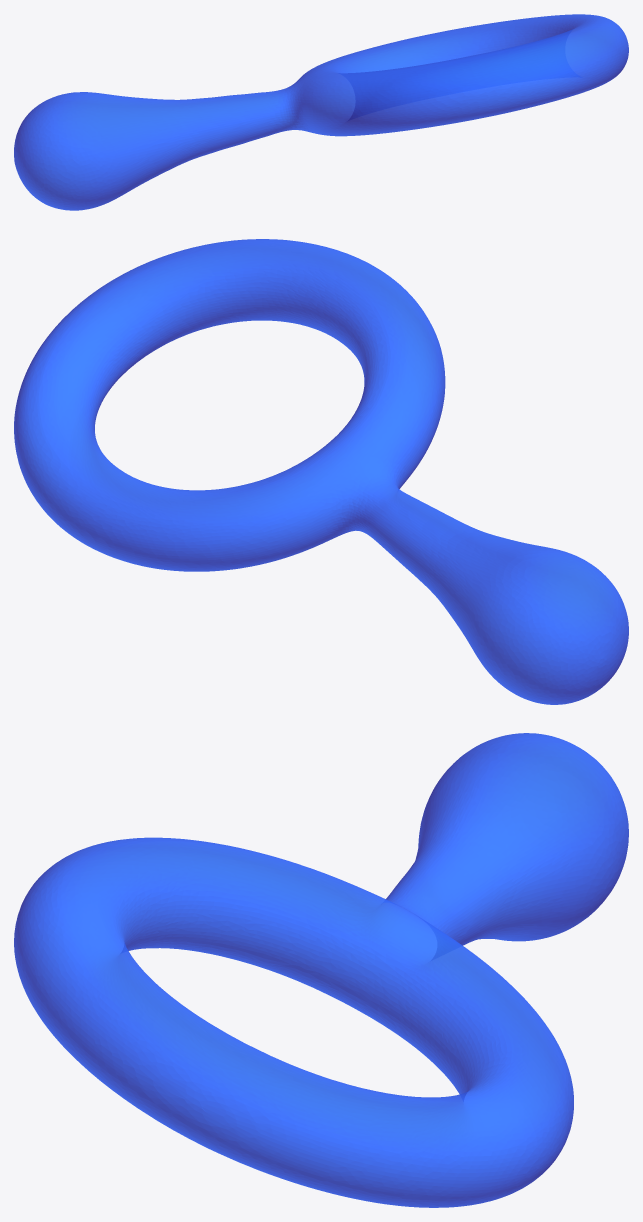
Rendered from Monoclonal antibodies part 3.fbx.
3 views of the same model, one above another, from view 1: azimuth 30°, elevation 25°; view 2: azimuth 150°, elevation 25°; view 3: azimuth 270°, elevation 25° (orthographic). The views are drawn at different scales.
Parts seen in each view (by area): view 1: Sphere.011; view 2: Sphere.011; view 3: Sphere.011.
Boxes of the visible parts, bbox=[...] form: Sphere.011: bbox=[14, 14, 628, 210]; Sphere.011: bbox=[14, 239, 628, 704]; Sphere.011: bbox=[14, 733, 628, 1207].
Bounding box in the file's own units: 416 × 135 × 246.
